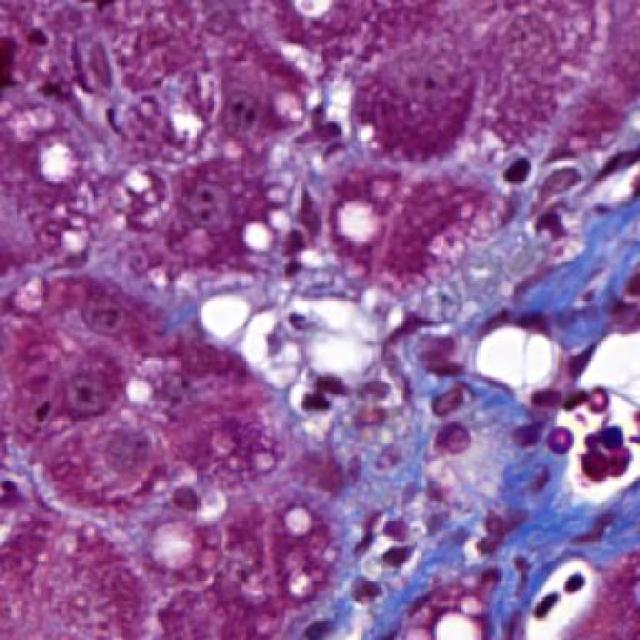ballooning: (228, 287, 393, 428)
